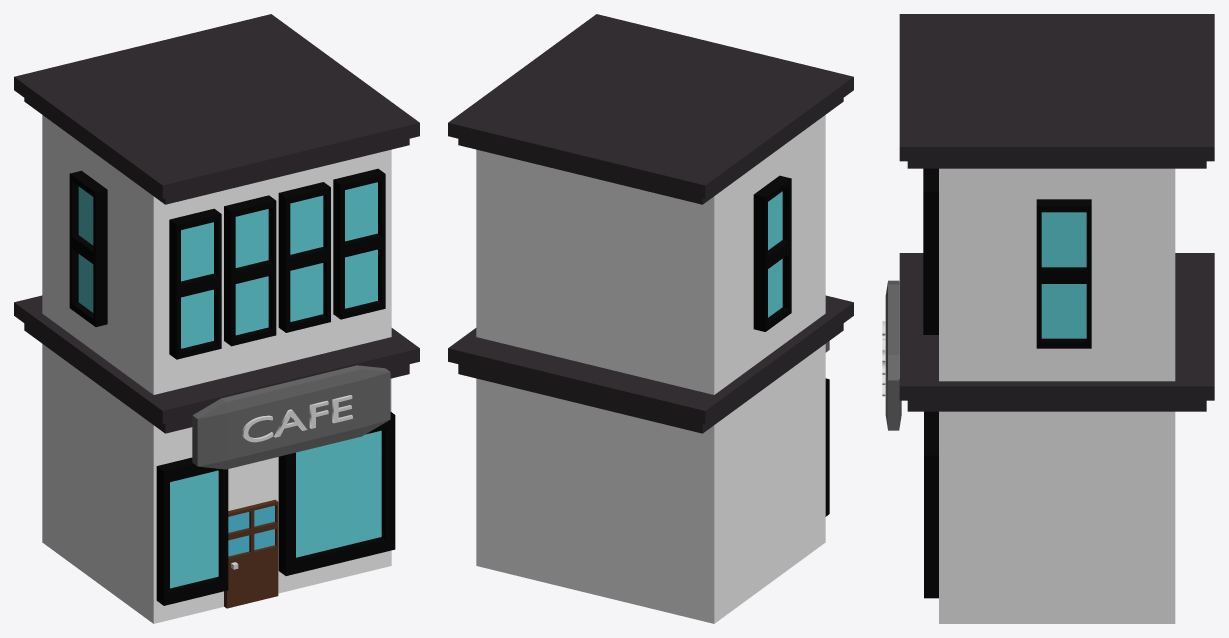
The model's file is Cafe.fbx.
The picture shows the model from 3 angles, left to right: view 1: azimuth 30°, elevation 25°; view 2: azimuth 150°, elevation 25°; view 3: azimuth 270°, elevation 25°; orthographic projection. The views are drawn at different scales.
Parts seen in each view (by area): view 1: Cube, Text; view 2: Cube; view 3: Cube.
Part boxes in pixels (x1=…): Cube: x1=14, y1=14, x2=419, y2=623; Text: x1=242, y1=395, x2=352, y2=442; Cube: x1=448, y1=14, x2=853, y2=623; Cube: x1=885, y1=14, x2=1214, y2=623.
Size of the model in its own units: 817 by 1350 by 844.
